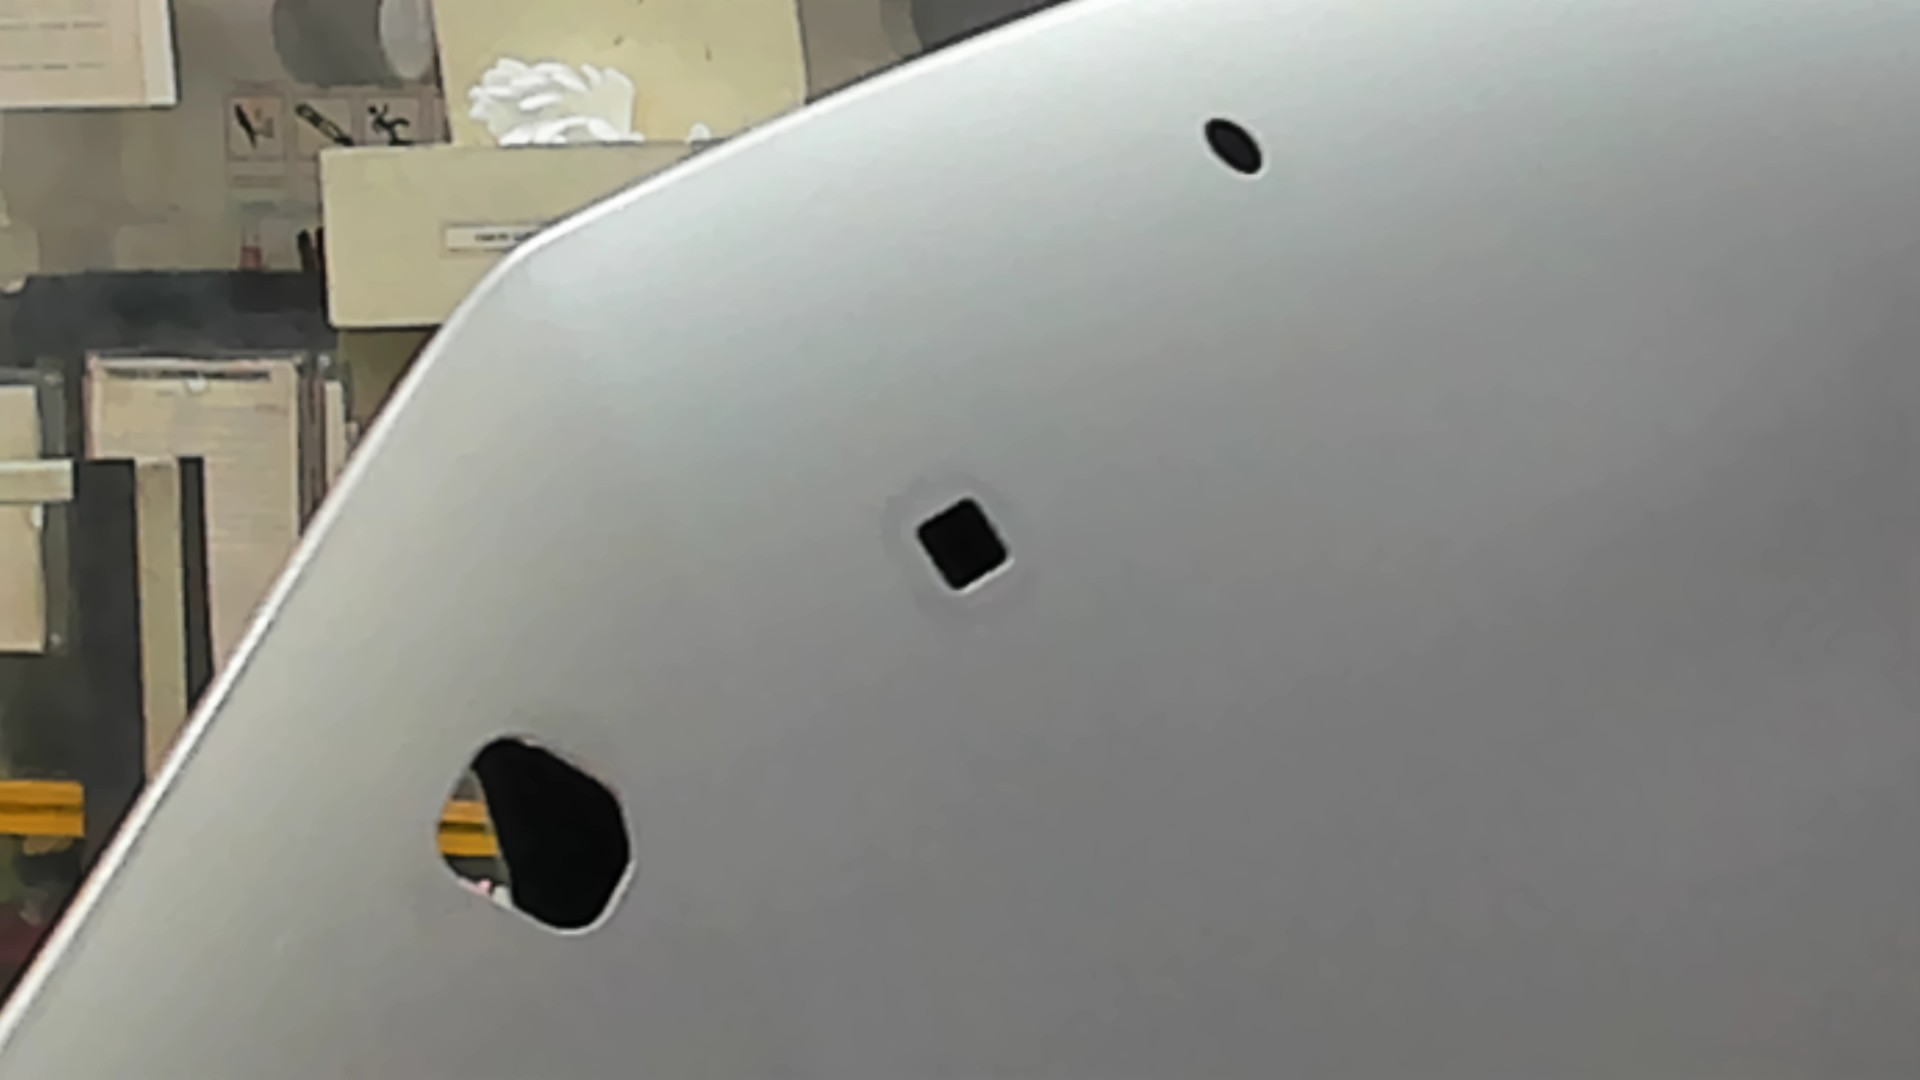Agujero: (911, 495, 1013, 593), (1204, 117, 1266, 177)
Agujerote: (434, 732, 638, 939)
